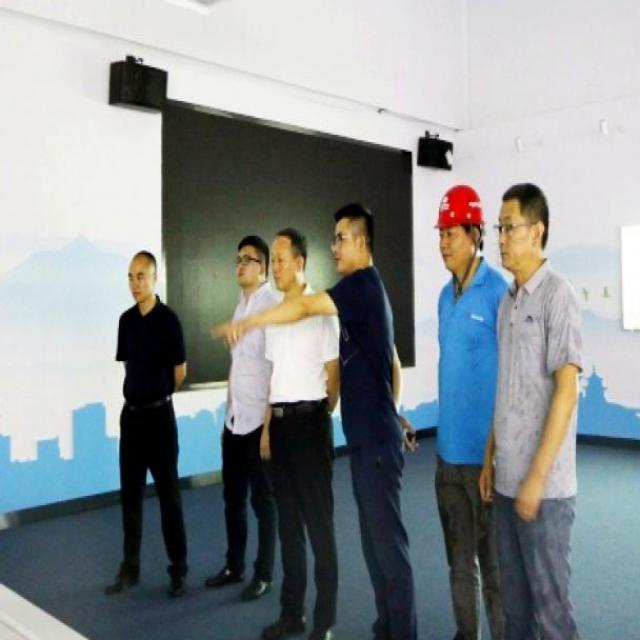helmet: (428, 165, 486, 282)
